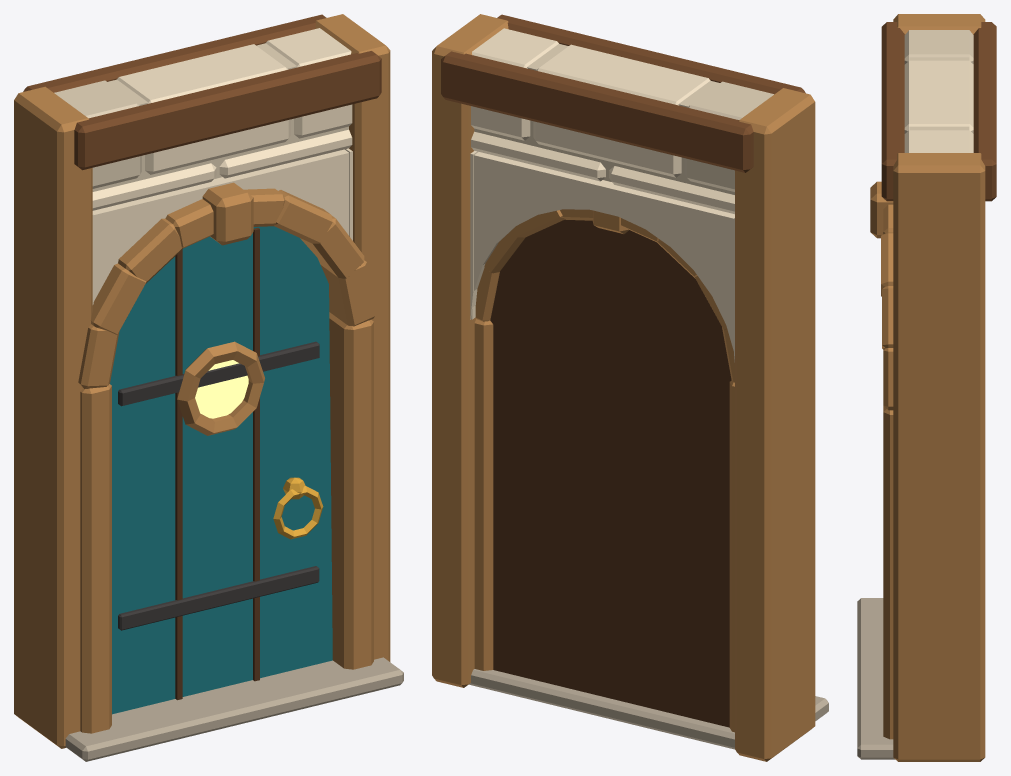
File: mod_wall_straight_door_1m.glb
3 views of the same model, side by side, from view 1: azimuth 30°, elevation 25°; view 2: azimuth 150°, elevation 25°; view 3: azimuth 270°, elevation 25° (orthographic). The views are drawn at different scales.
Parts seen in each view (by area): view 1: mod_wall_straight_door_1m, part_door_leaf; view 2: mod_wall_straight_door_1m; view 3: mod_wall_straight_door_1m.
Boxes of the visible parts, x1=… form: mod_wall_straight_door_1m: x1=14, y1=14, x2=403, y2=761; part_door_leaf: x1=110, y1=226, x2=332, y2=714; mod_wall_straight_door_1m: x1=432, y1=14, x2=828, y2=761; mod_wall_straight_door_1m: x1=857, y1=14, x2=996, y2=761.
Bounding box in the file's own units: 1.12 × 2 × 0.425.
